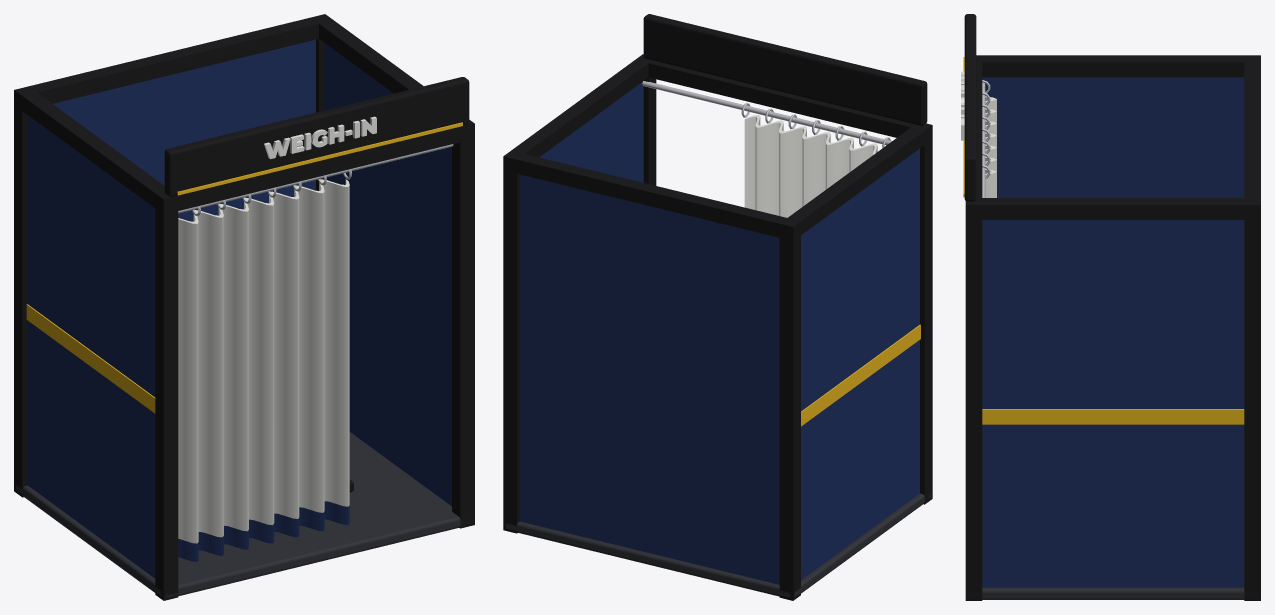
File: WeighBooth_01.glb
The picture shows the model from 3 angles, left to right: view 1: azimuth 30°, elevation 25°; view 2: azimuth 150°, elevation 25°; view 3: azimuth 270°, elevation 25°; orthographic projection. The views are drawn at different scales.
Parts seen in each view (by area): view 1: WeighBooth_Walls, WeighBooth_Curtain, WeighBooth_Frame, WeighBooth_Base, WeighBooth_Sign, WeighBooth_Hem, WeighBooth_Stripes, WeighBooth_SignText, WeighBooth_SignTrim, WeighBooth_Rail; view 2: WeighBooth_Walls, WeighBooth_Frame, WeighBooth_Sign, WeighBooth_Curtain, WeighBooth_Base, WeighBooth_Stripes, WeighBooth_Rail; view 3: WeighBooth_Walls, WeighBooth_Frame, WeighBooth_Stripes, WeighBooth_Base, WeighBooth_Sign, WeighBooth_Curtain, WeighBooth_Rings, WeighBooth_Rail.
Part boxes in pixels (x1,y1,x2,y2): WeighBooth_Walls: (27, 39, 451, 578); WeighBooth_Curtain: (178, 179, 349, 543); WeighBooth_Frame: (14, 14, 474, 600); WeighBooth_Base: (15, 432, 468, 597); WeighBooth_Sign: (164, 77, 469, 196); WeighBooth_Hem: (178, 501, 349, 561); WeighBooth_Stripes: (26, 304, 155, 413); WeighBooth_SignText: (264, 116, 376, 159); WeighBooth_SignTrim: (177, 122, 462, 195); WeighBooth_Rail: (178, 144, 453, 213); WeighBooth_Walls: (519, 81, 919, 584); WeighBooth_Frame: (503, 54, 932, 600); WeighBooth_Sign: (643, 14, 927, 125); WeighBooth_Curtain: (744, 114, 877, 217); WeighBooth_Base: (505, 493, 930, 597); WeighBooth_Stripes: (801, 324, 920, 426); WeighBooth_Rail: (642, 81, 891, 145); WeighBooth_Walls: (982, 77, 1244, 587); WeighBooth_Frame: (965, 55, 1260, 600); WeighBooth_Stripes: (982, 409, 1244, 424); WeighBooth_Base: (968, 587, 1257, 599); WeighBooth_Sign: (964, 14, 976, 201); WeighBooth_Curtain: (985, 96, 996, 197); WeighBooth_Rings: (982, 80, 990, 178); WeighBooth_Rail: (982, 80, 985, 197).
Size of the model in its own units: 6 by 8.24 by 5.08.
